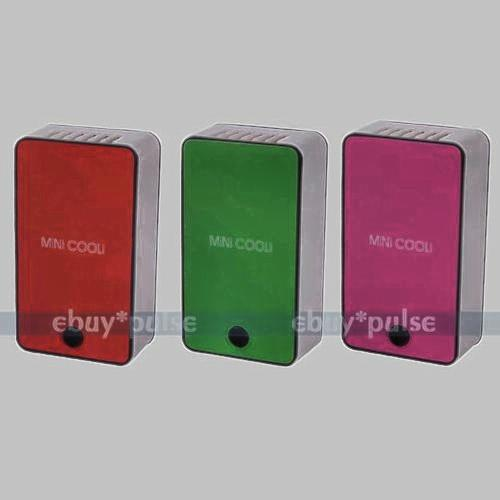fan: (346, 122, 492, 371), (186, 119, 313, 378), (28, 128, 154, 370)
